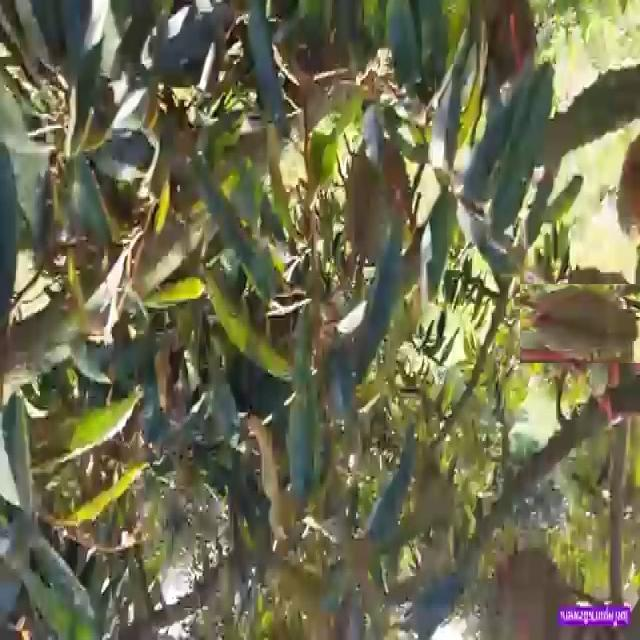durian: (531, 272, 633, 374)
